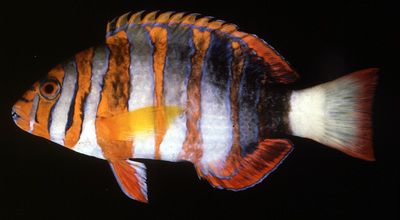fish: (12, 11, 378, 204)
